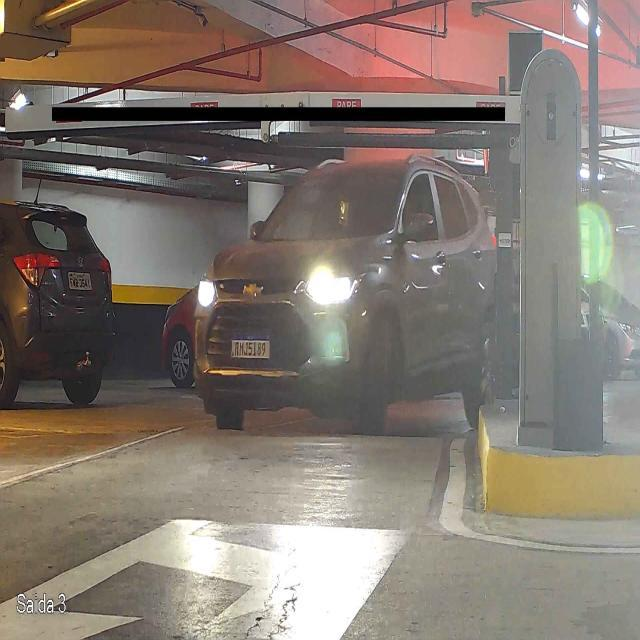mercosul_plate: (230, 335, 271, 360)
